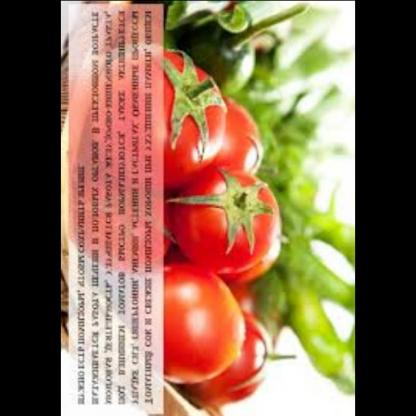tomato: (160, 255, 247, 385), (154, 50, 236, 186), (180, 169, 283, 276), (189, 314, 278, 402), (207, 97, 268, 186)
